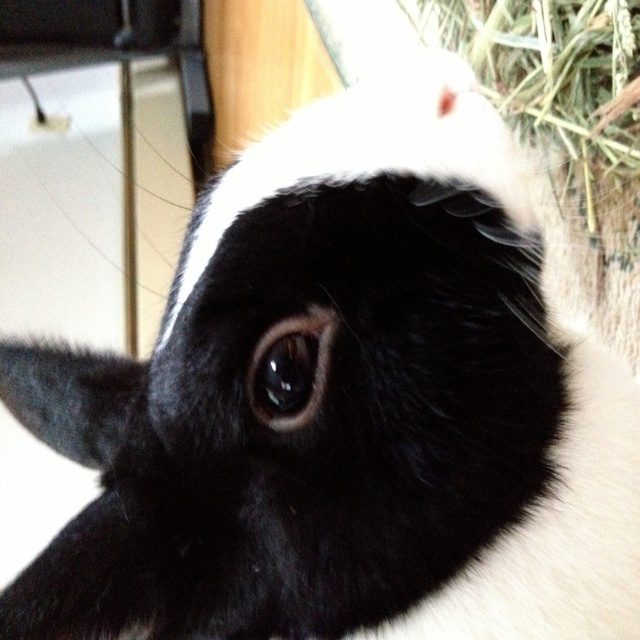Rabbit: (0, 41, 640, 639)
